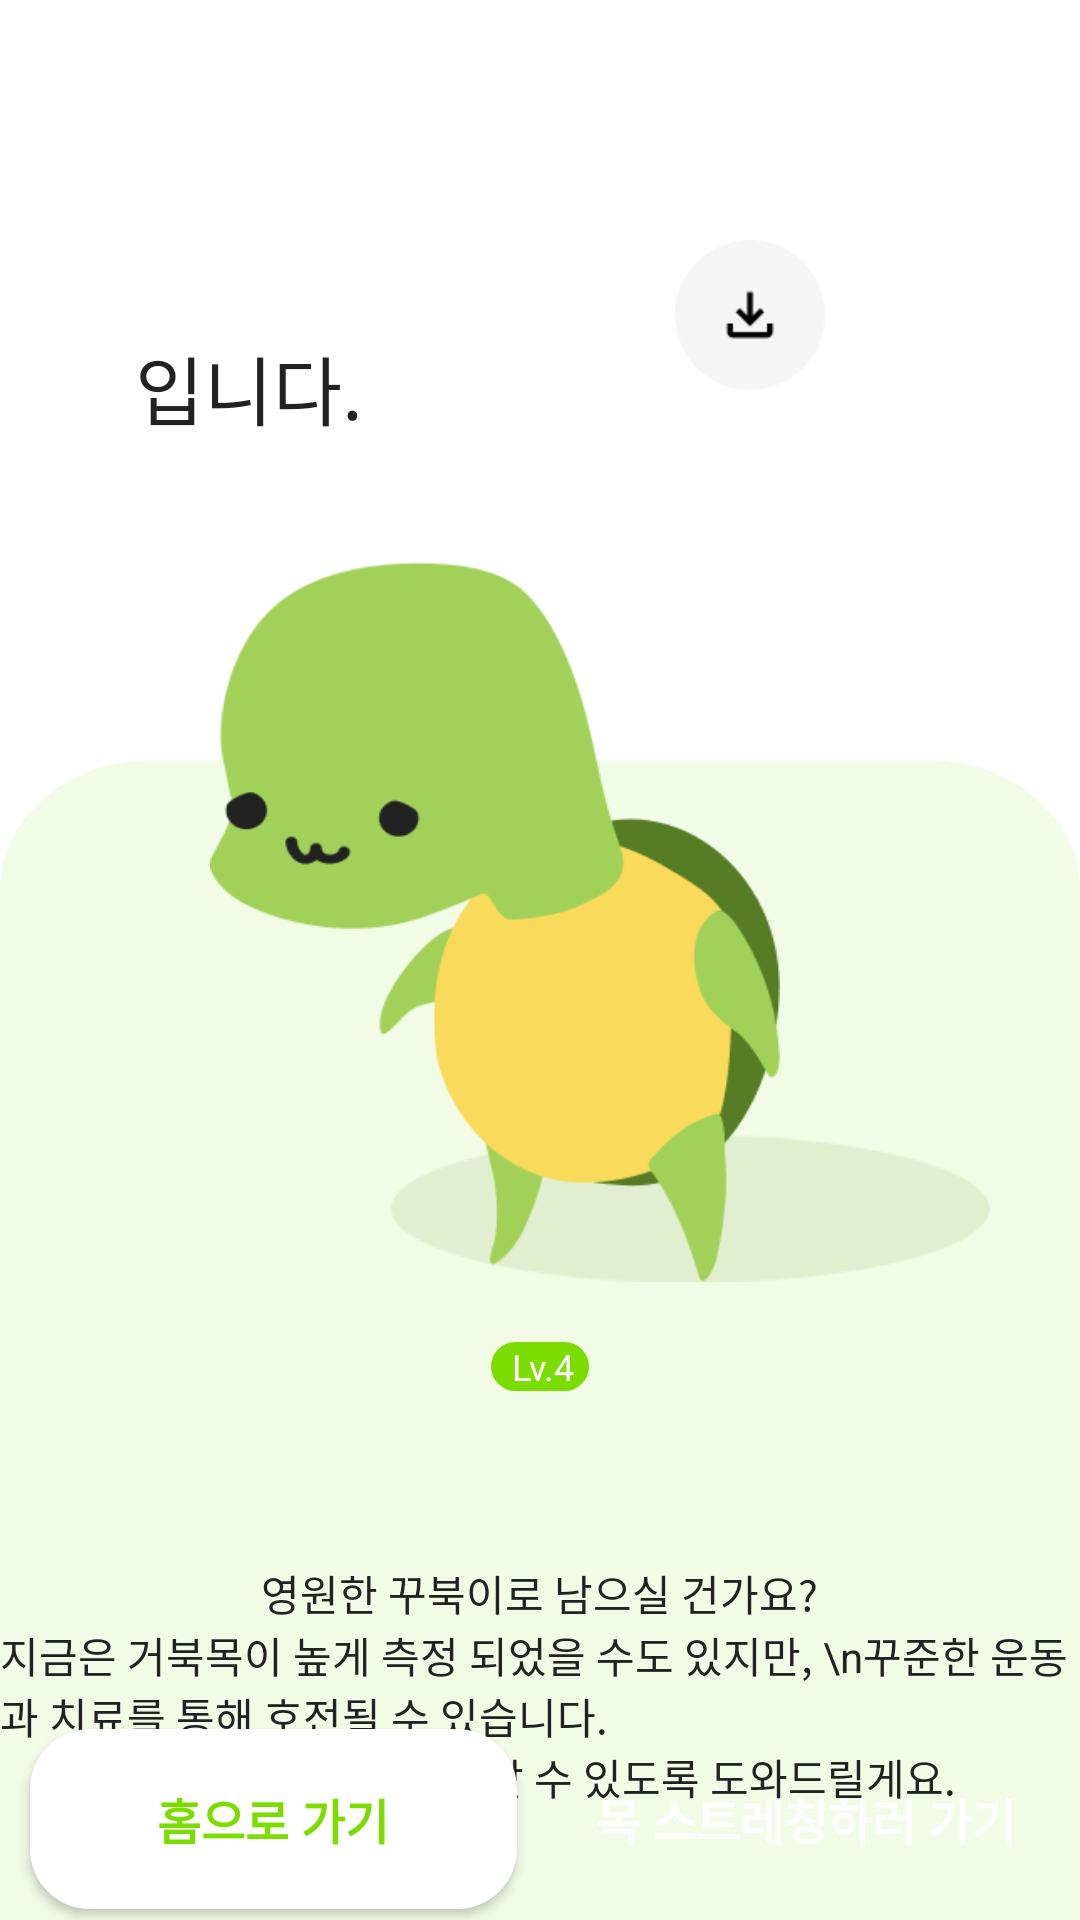

Icons on this 1080px×1920px Android screen, each with its box as (x1, y1, x2, y2):
save: (675, 240, 825, 390)
